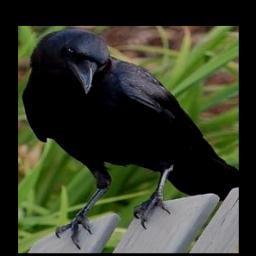Crow: (22, 29, 238, 250)
